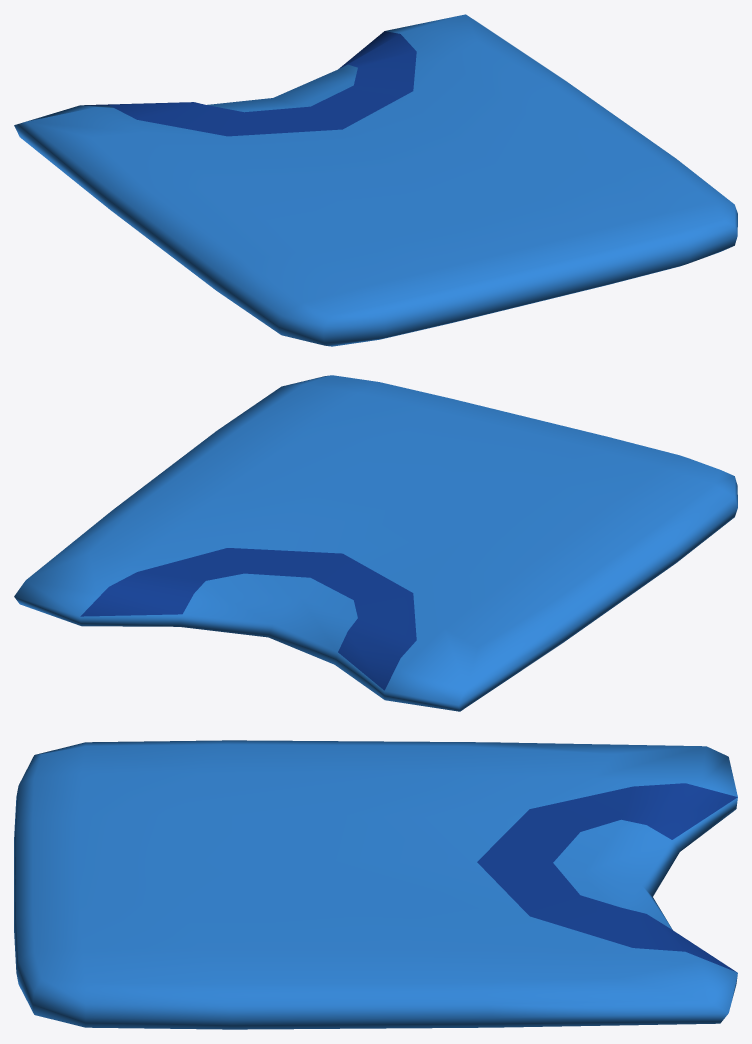
The model's file is TeeShirt_Folded.fbx.
3 renders of one model, top to bottom at view 1: azimuth 30°, elevation 25°; view 2: azimuth 150°, elevation 25°; view 3: azimuth 270°, elevation 25°, orthographic. The views are drawn at different scales.
Visible parts, largest first — view 1: Teeshirt_Folded; view 2: Teeshirt_Folded; view 3: Teeshirt_Folded.
Part boxes in pixels (box(x1,y1,x2,y2)): Teeshirt_Folded: box(14, 14, 737, 346); Teeshirt_Folded: box(14, 375, 737, 711); Teeshirt_Folded: box(14, 740, 737, 1029).
Size of the model in its own units: 200 by 17.26 by 227.
